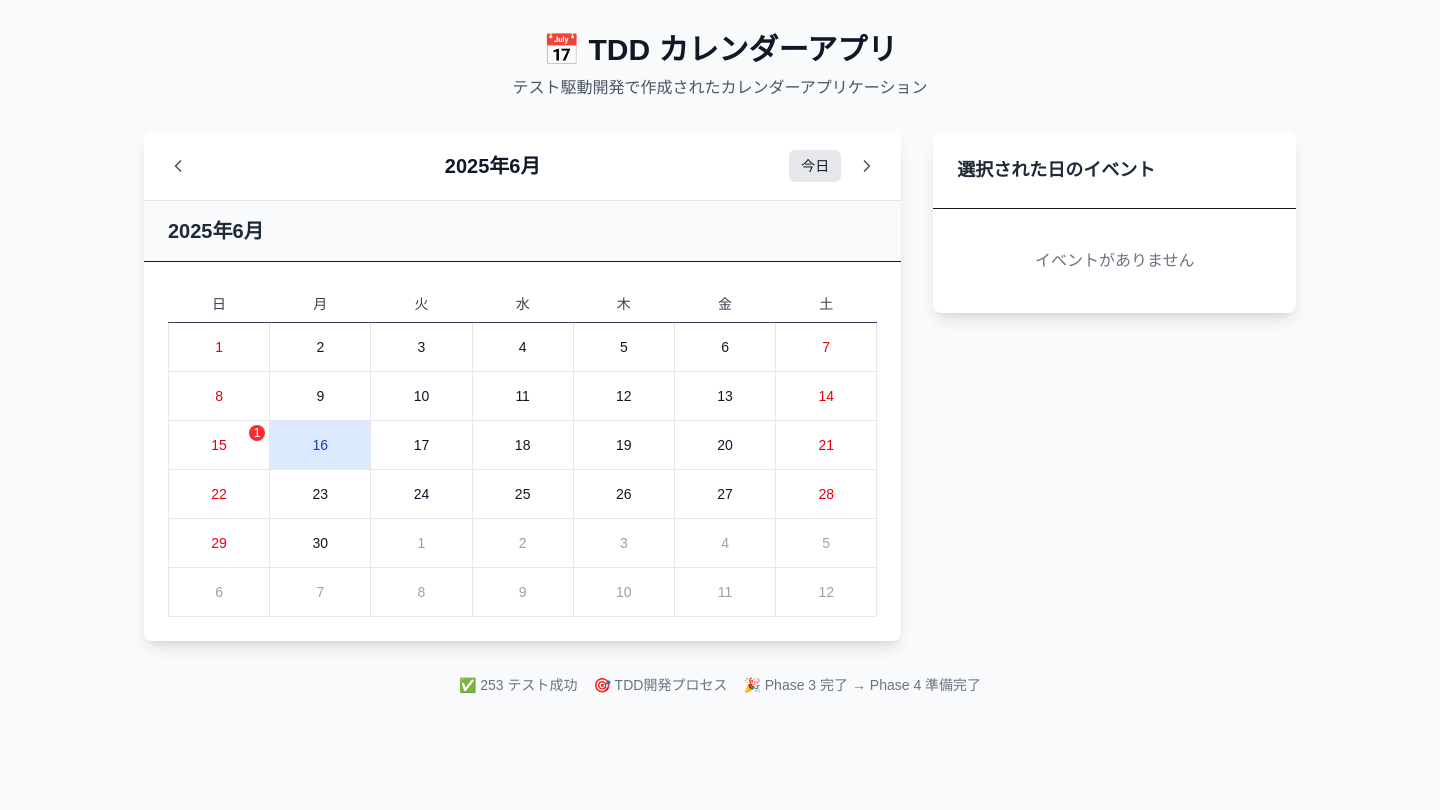
Test case: MainPage統合テスト › イベントの編集と削除が正しく動作する
Note: 6月15日を選択
Click the button "15 1": (219, 445) [169, 421, 269, 469]
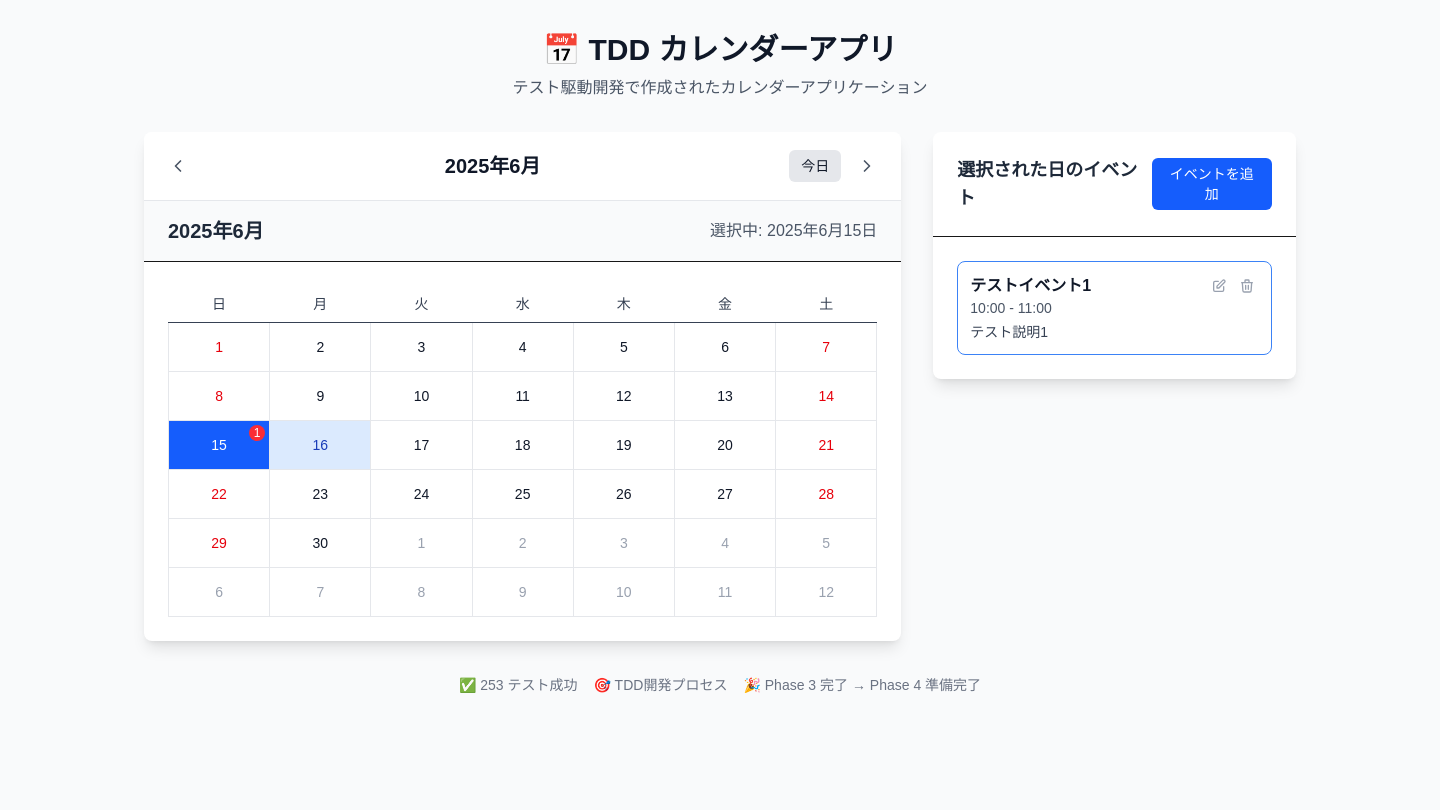
Now the heading "テストイベント1" is shown, box [970, 277, 1091, 294]
Note: 編集ボタンをクリック
Click the button named "イベントを編集": (1219, 286) [1207, 274, 1231, 298]
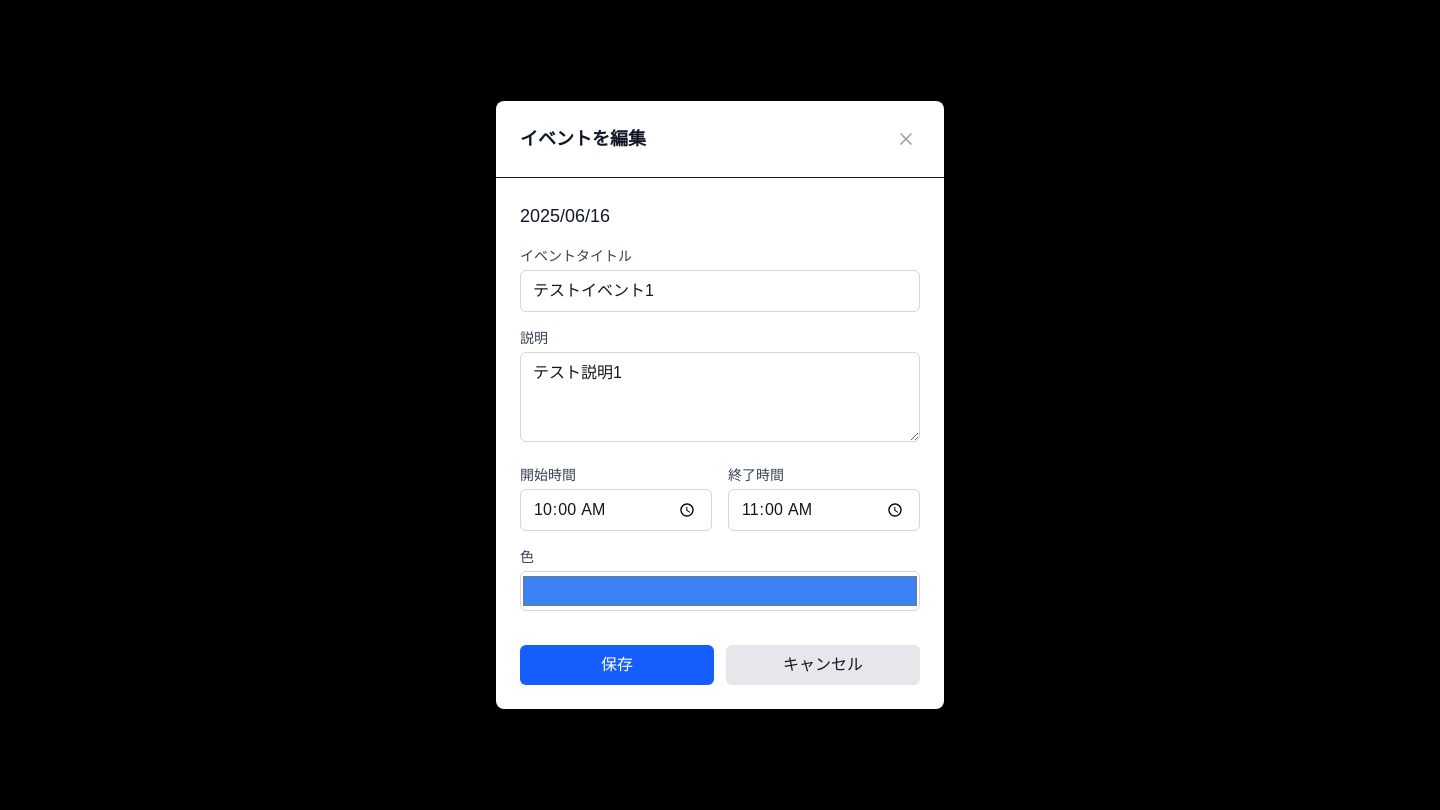
Now the dialog "イベントを編集" is shown, box [496, 101, 944, 709]
Note:  タイトルを変更
Replace the text in the field showing "テストイベント1" with "編集済みイベント": (720, 291) [520, 270, 920, 312]
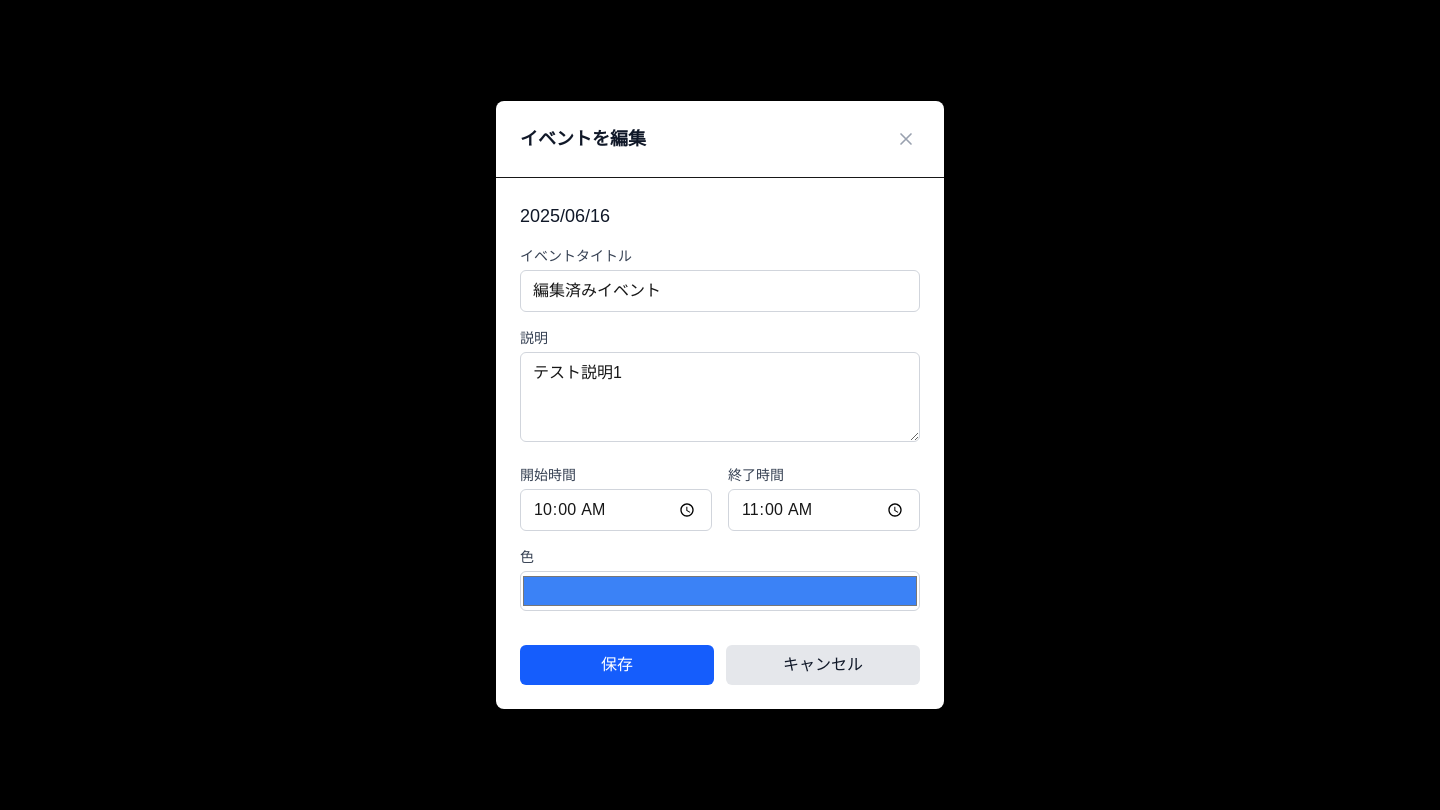
Note: 保存ボタンをクリック
Click the button "保存": (617, 665) [520, 645, 714, 685]
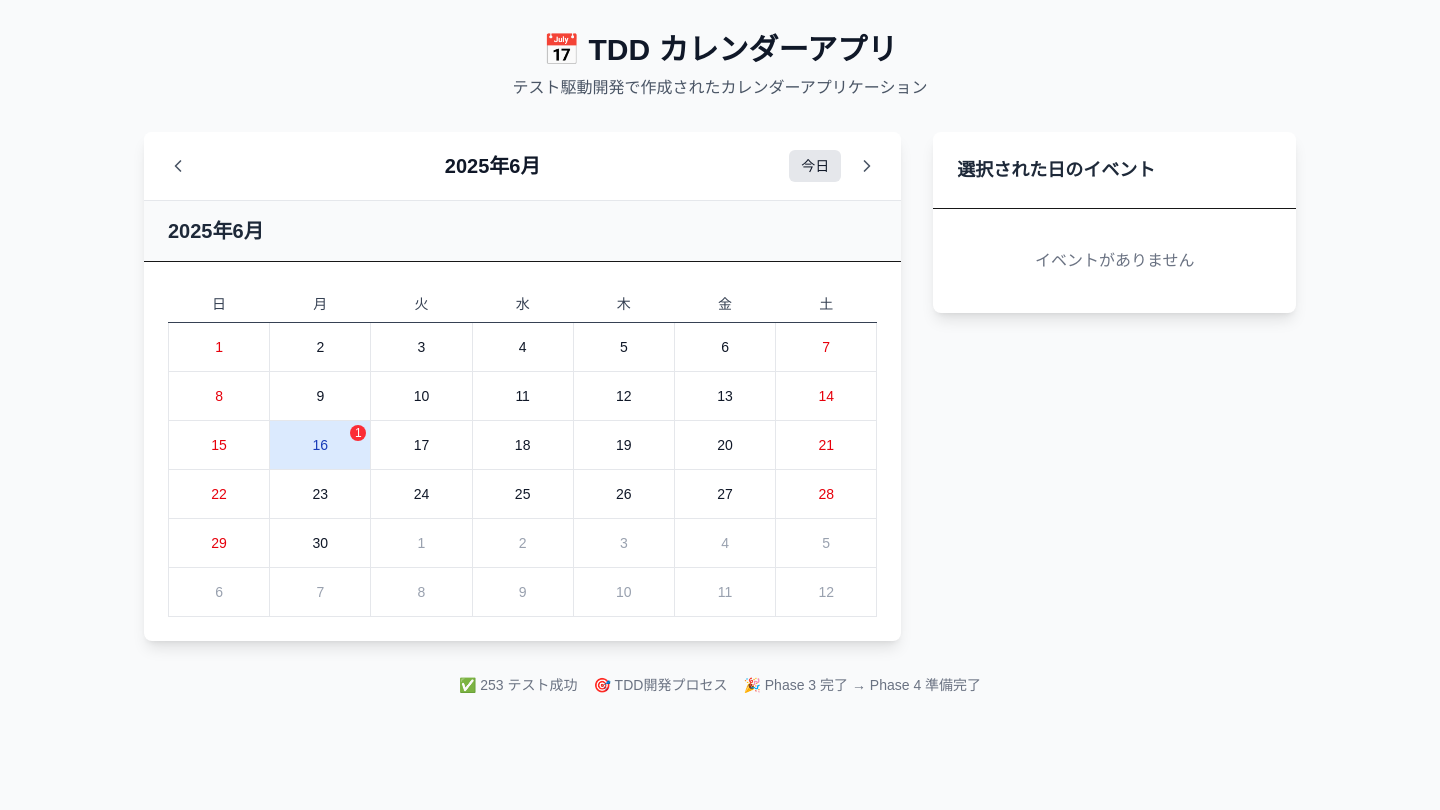
Now the heading "イベントを編集" is gone
